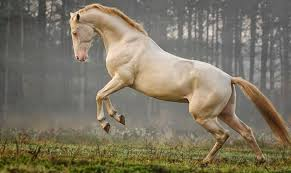horse: (66, 2, 282, 163)
